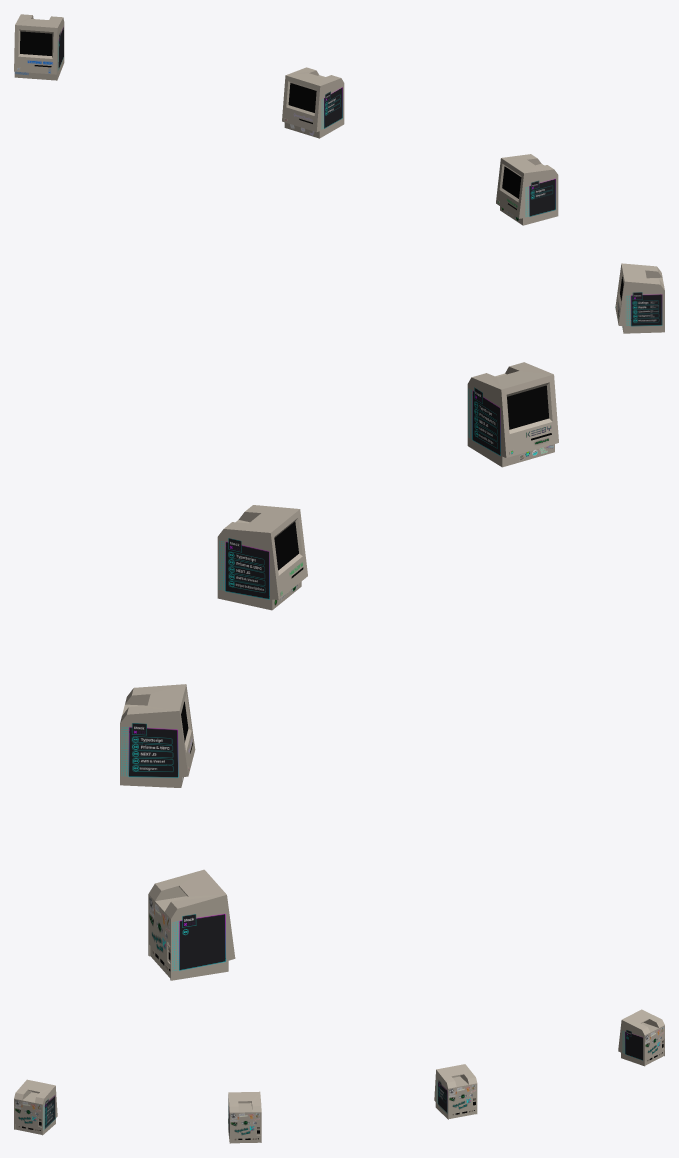
Rendered from projectComputers.glb.
The picture shows the model from 3 angles, top to bottom: view 1: azimuth 30°, elevation 25°; view 2: azimuth 150°, elevation 25°; view 3: azimuth 270°, elevation 25°; orthographic projection. The views are drawn at different scales.
Parts seen in each view (by area): view 1: Case.004, Case, Case.001, Case.002, Screen.002, Screen.001; view 2: Case.002, Case.004, Case.001, Case, Screen; view 3: Case.002, Case, Case.001, Case.004.
Part boxes in pixels (x1=…): Case.004: x1=496, y1=154, x2=558, y2=225; Case: x1=615, y1=263, x2=664, y2=333; Case.001: x1=282, y1=67, x2=344, y2=138; Case.002: x1=14, y1=14, x2=64, y2=80; Screen.002: x1=20, y1=31, x2=52, y2=55; Screen.001: x1=288, y1=83, x2=316, y2=112; Case.002: x1=148, y1=869, x2=235, y2=980; Case.004: x1=217, y1=505, x2=307, y2=610; Case.001: x1=120, y1=684, x2=195, y2=787; Case: x1=467, y1=362, x2=558, y2=467; Screen: x1=507, y1=385, x2=548, y2=429; Case.002: x1=618, y1=1009, x2=664, y2=1066; Case: x1=14, y1=1079, x2=57, y2=1135; Case.001: x1=434, y1=1064, x2=477, y2=1119; Case.004: x1=228, y1=1091, x2=261, y2=1143.
Size of the model in its own units: 214 by 39.8 by 609.
Materials: 12 (8 with a texture image).
